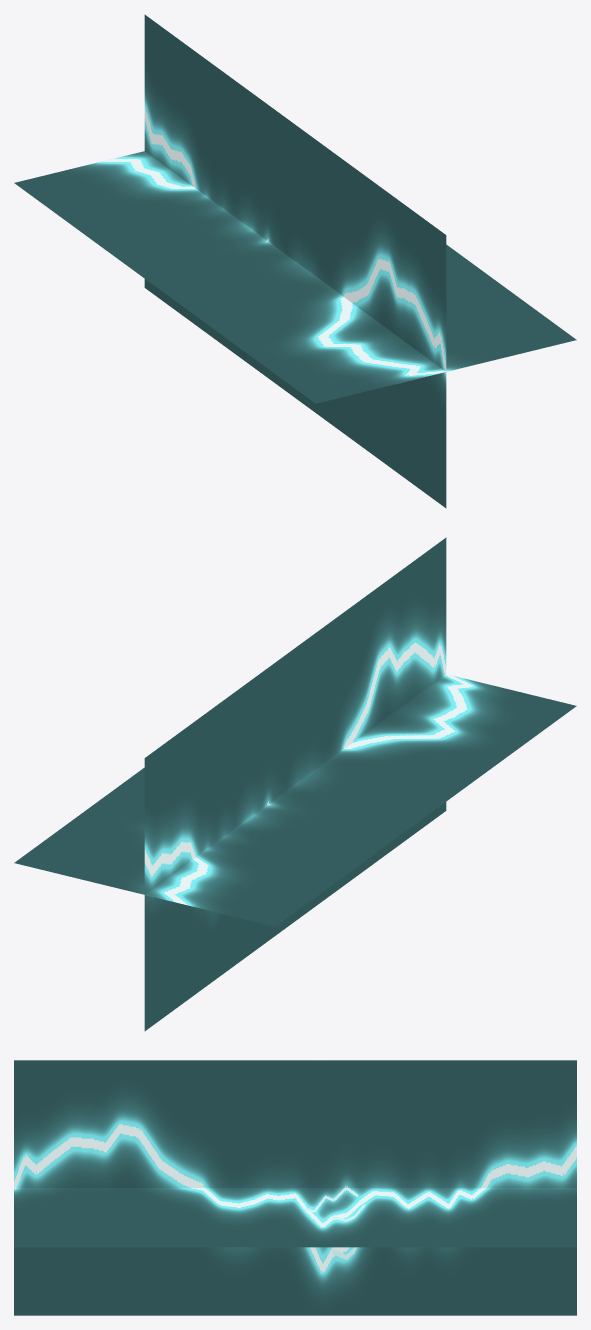
The model's file is fx_arc.glb.
The picture shows the model from 3 angles, top to bottom: view 1: azimuth 30°, elevation 25°; view 2: azimuth 150°, elevation 25°; view 3: azimuth 270°, elevation 25°; orthographic projection. The views are drawn at different scales.
Parts seen in each view (by area): view 1: fx_arc; view 2: fx_arc; view 3: fx_arc.
Boxes of the visible parts, x1=… form: fx_arc: x1=14, y1=14, x2=576, y2=508; fx_arc: x1=14, y1=537, x2=576, y2=1031; fx_arc: x1=14, y1=1060, x2=576, y2=1315.
Bounding box in the file's own units: 0.5 × 0.5 × 1.
Materials: 1 (1 with a texture image).
